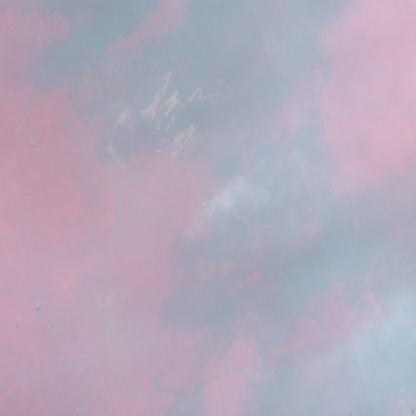fire: (104, 66, 220, 182), (171, 192, 222, 257), (94, 283, 120, 315)
